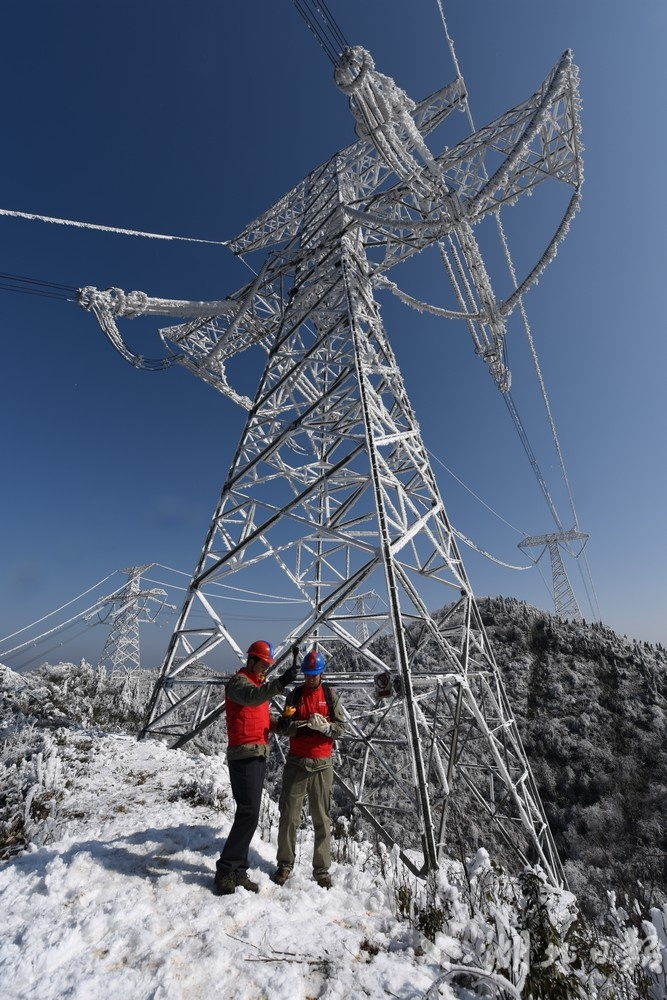blue: (300, 649, 326, 686)
red: (241, 638, 275, 675)
